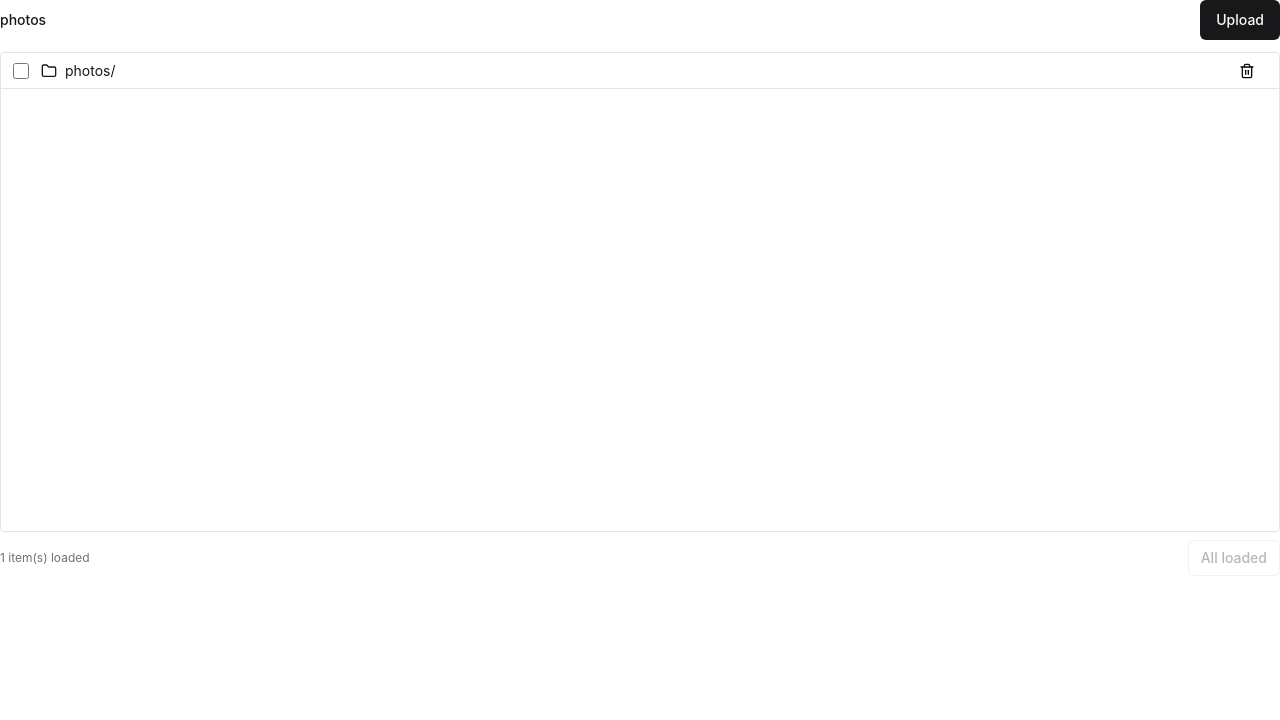
Test: ObjectBrowserPage bulk delete › shows the selection toolbar after checking a folder and opens the dialog
Click the checkbox named "select folder photos".
click(21, 70)  # box top-left (13, 62), bottom-right (29, 78)
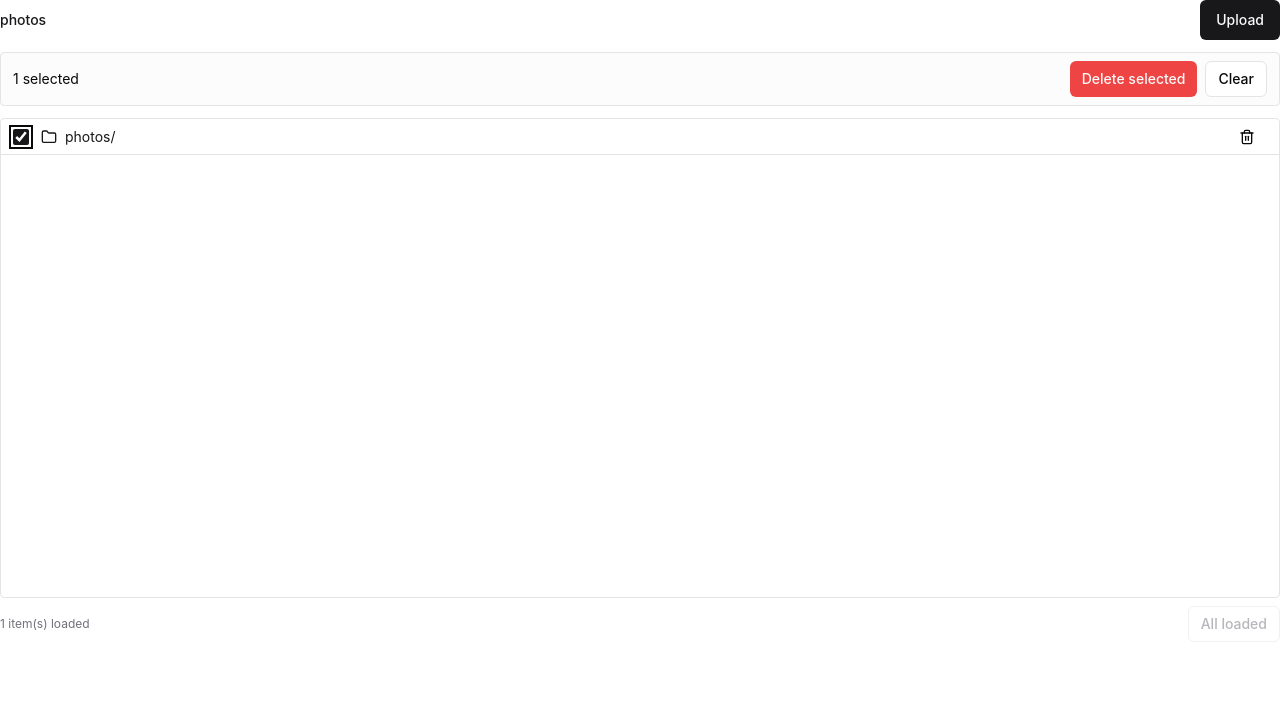
Result: the element with test id "selection-toolbar" is shown at top-left (0, 52), bottom-right (1279, 106)
Click the button "Delete selected".
click(1134, 79)  # box top-left (1070, 61), bottom-right (1198, 97)
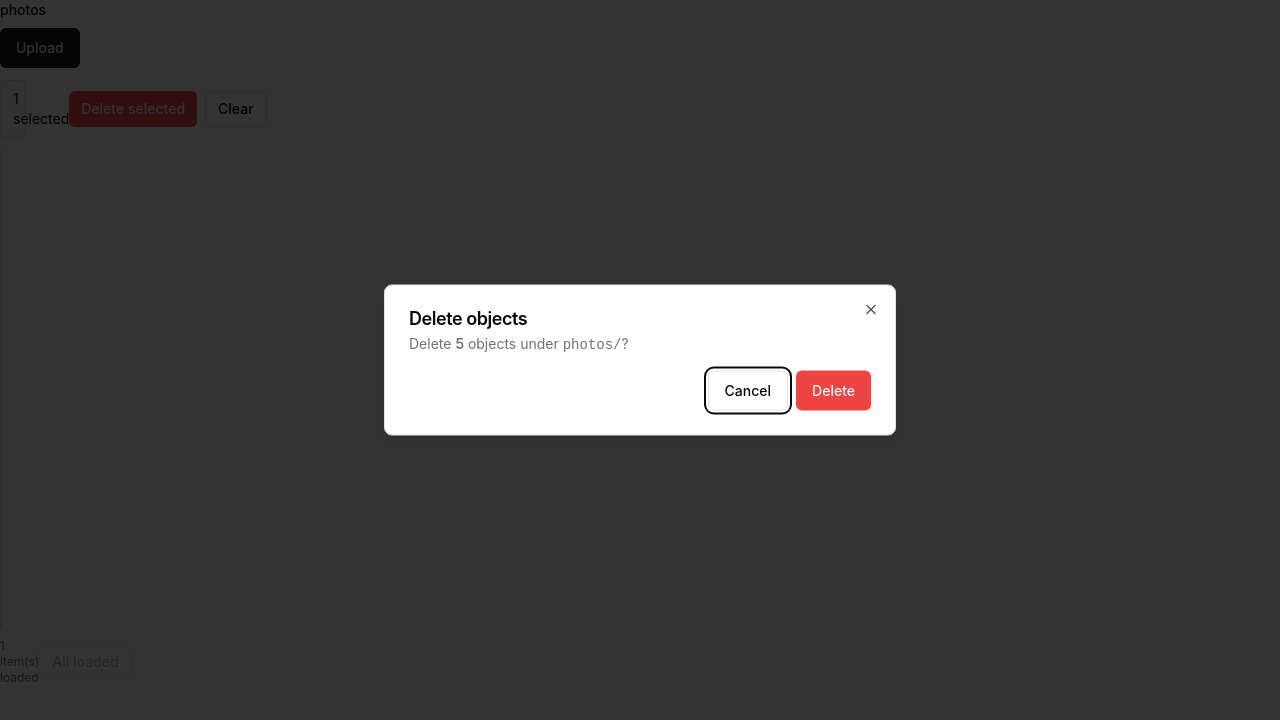
Result: the text "5" is shown at top-left (455, 334), bottom-right (464, 352)
